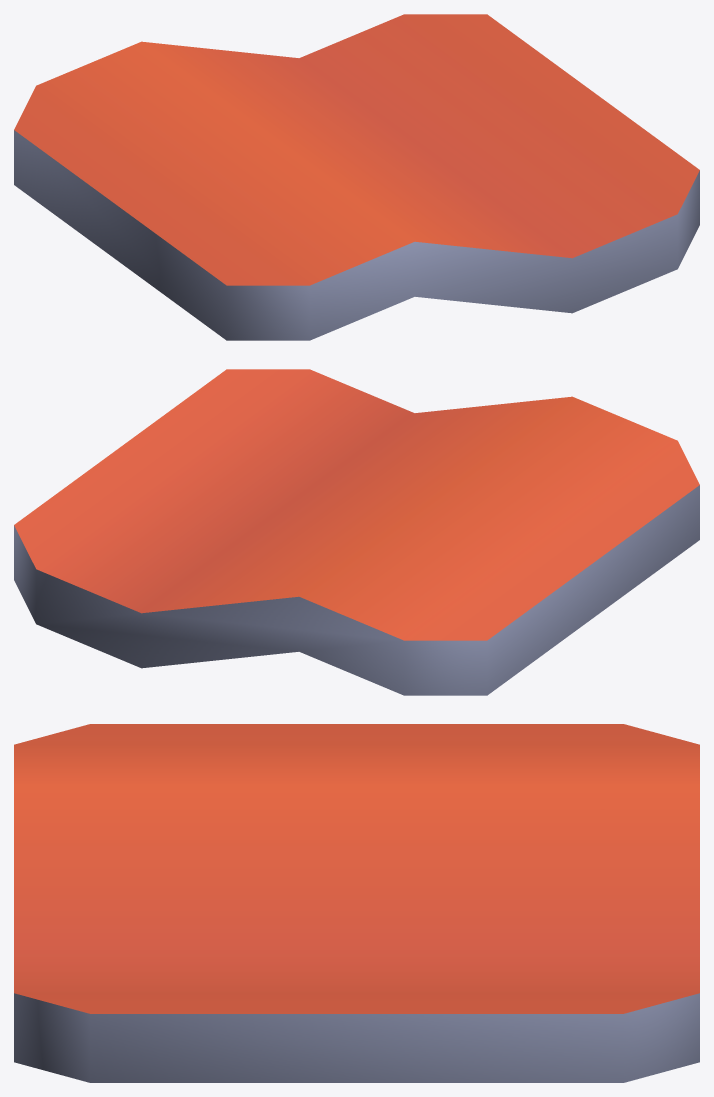
The model's file is debris-plate-b.glb.
3 renders of one model, top to bottom at view 1: azimuth 30°, elevation 25°; view 2: azimuth 150°, elevation 25°; view 3: azimuth 270°, elevation 25°, orthographic. The views are drawn at different scales.
Visible parts, largest first — view 1: debris-plate-b; view 2: debris-plate-b; view 3: debris-plate-b.
Part boxes in pixels (x1,y1,x2,y2): debris-plate-b: (14,14,699,340); debris-plate-b: (14,369,699,695); debris-plate-b: (14,724,699,1082).
Bounding box in the file's own units: 0.9 × 0.2 × 0.9.
1 material, 1 textured.
